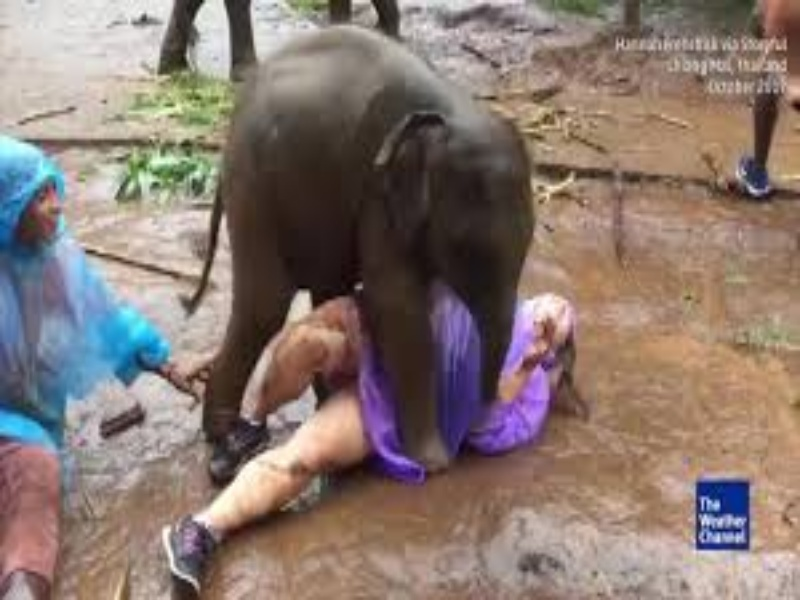elephant: (169, 4, 536, 408)
